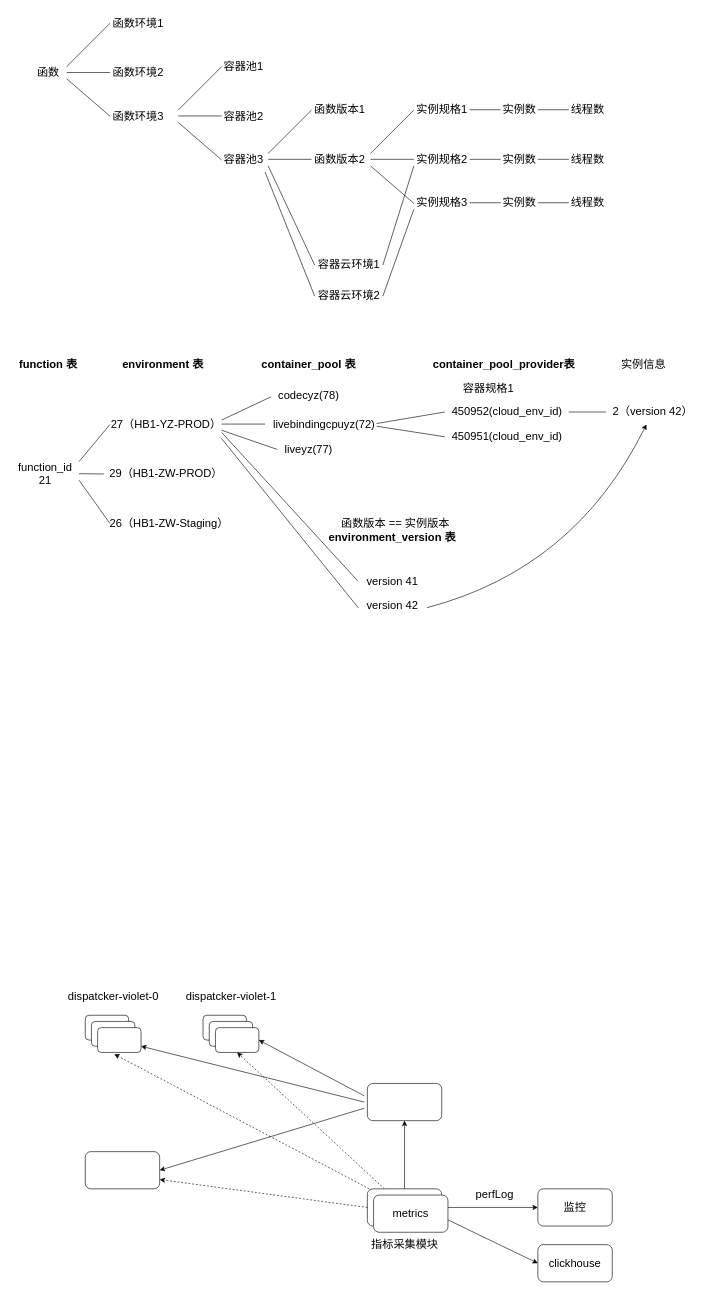
Image size: 709x1293. Some labels were removed from this diagram. Each missing label, with the box of its shape:
faas-autoscaling: (85, 1151, 160, 1189)
prometheus: (367, 1083, 442, 1121)
